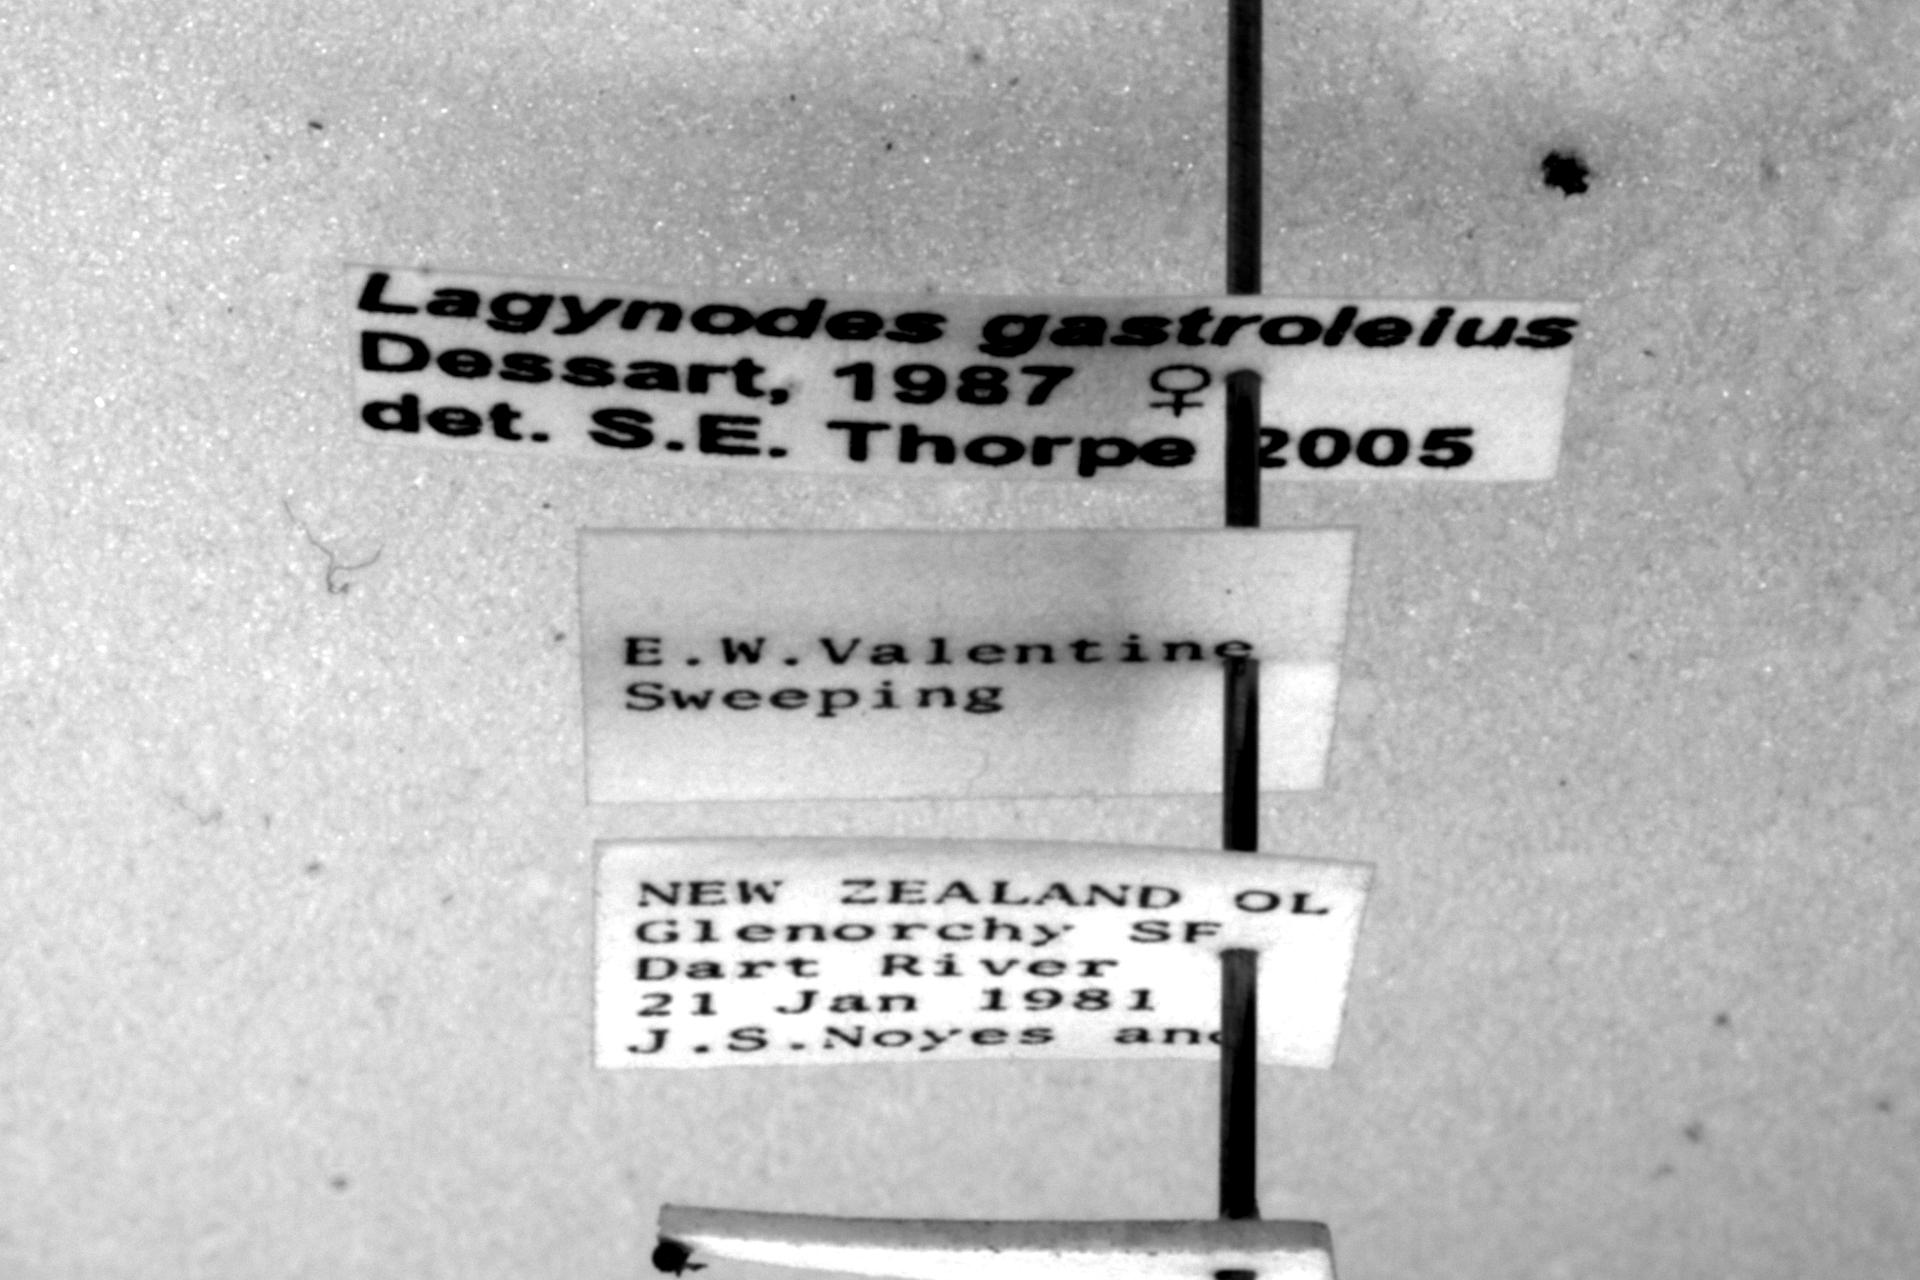typed_label: (349, 266, 1579, 480), (581, 529, 1354, 803), (596, 840, 1369, 1069)
